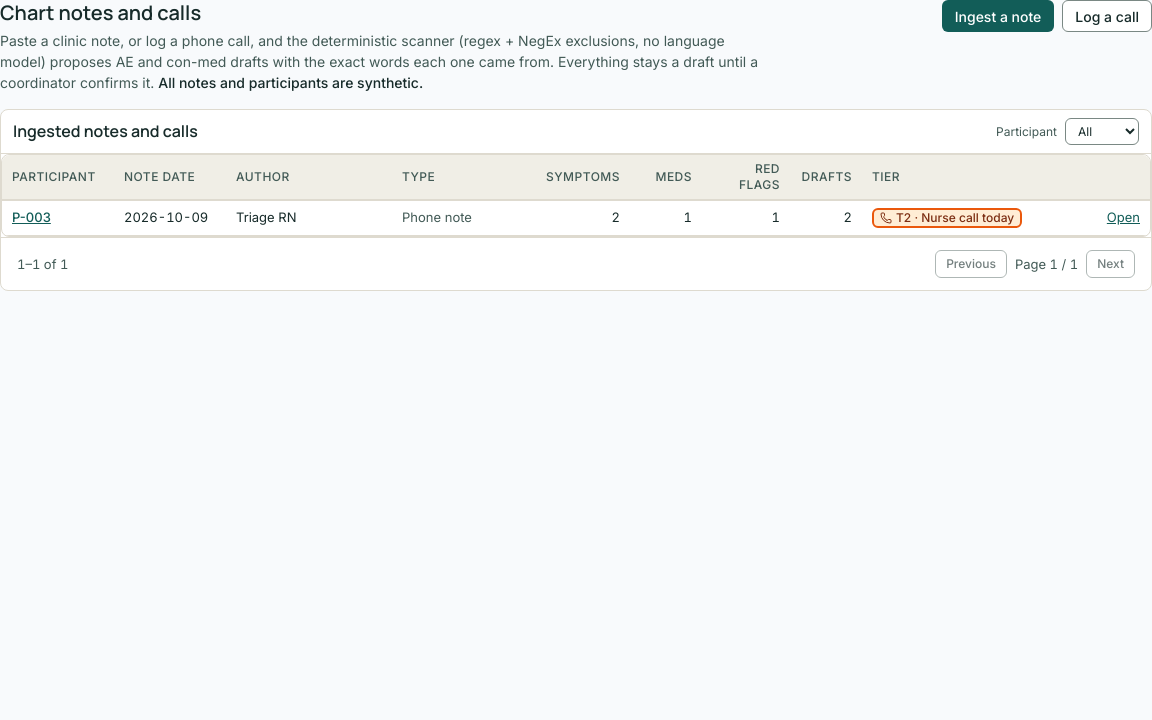
Test: Log a call › posts a phone_call note with caller, direction and the summary verbatim
Click the button "Log a call".
click(1107, 16)  # box [1062,0,1151,32]
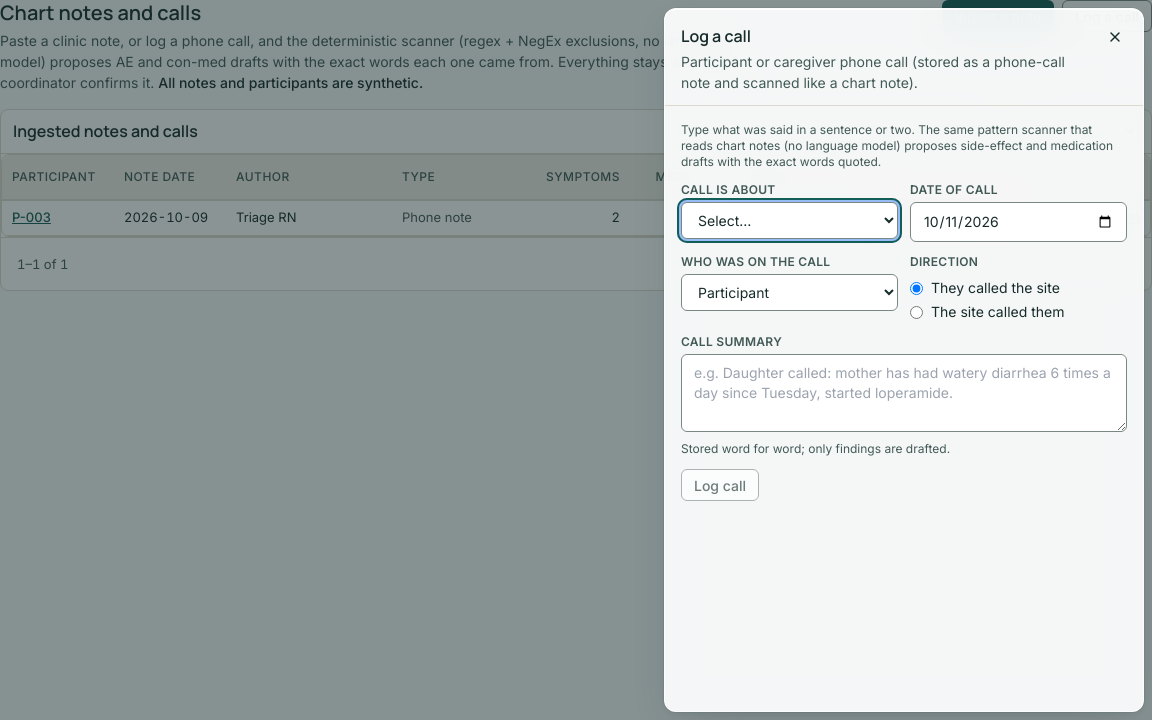
expect the button "Log call" is disabled: met, box [681,469,759,501]
Select "P-003" in the dropdown labelled "Call is about" at (790, 221), box [681,202,898,239]
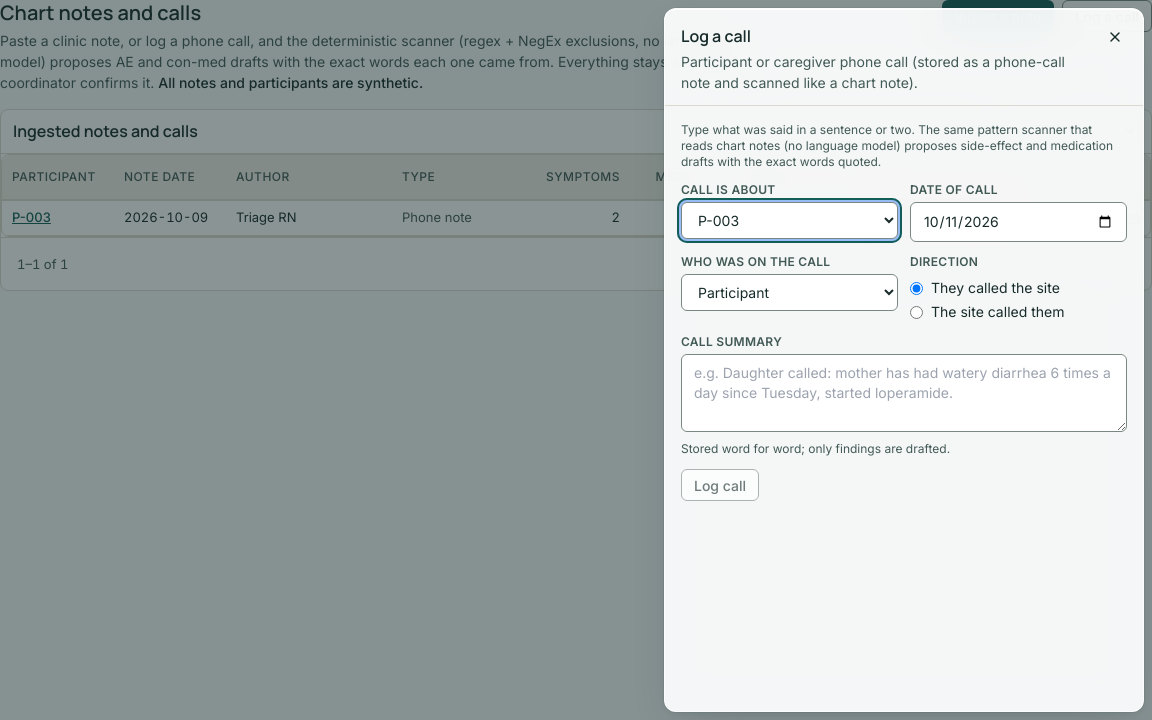
Select "Caregiver" in the dropdown labelled "Who was on the call" at (790, 293), box [681,274,898,311]
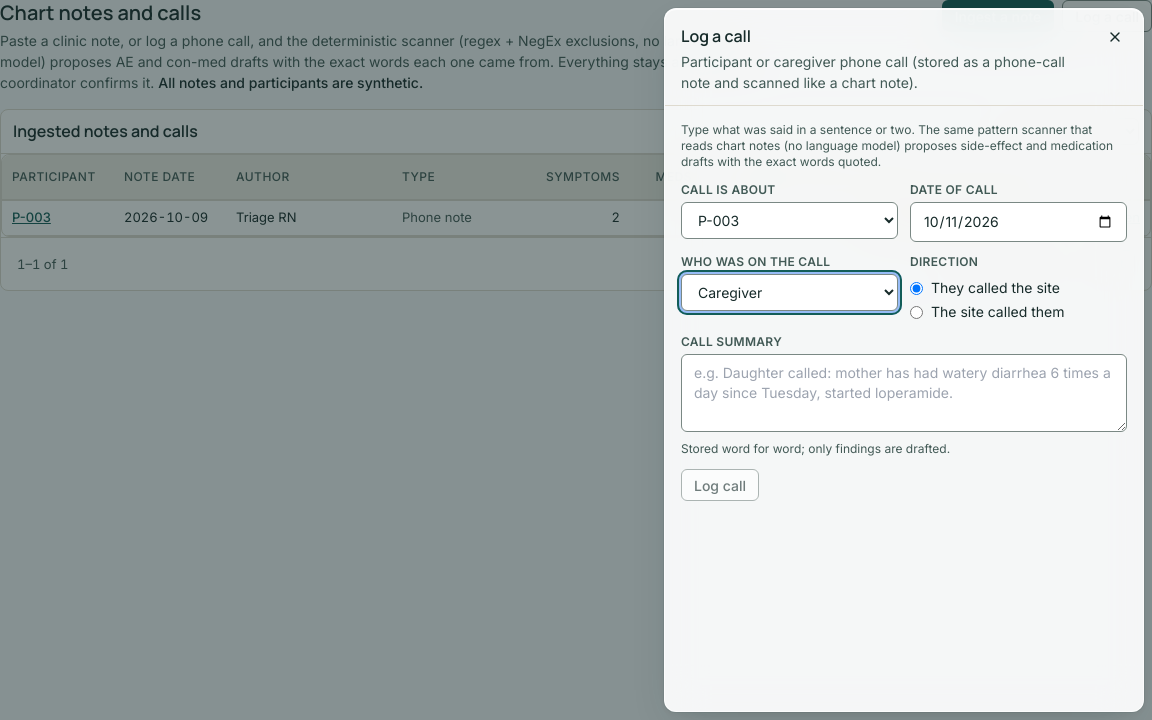
Click the radio button labelled "The site called them".
click(916, 312)  # box [910,306,923,319]
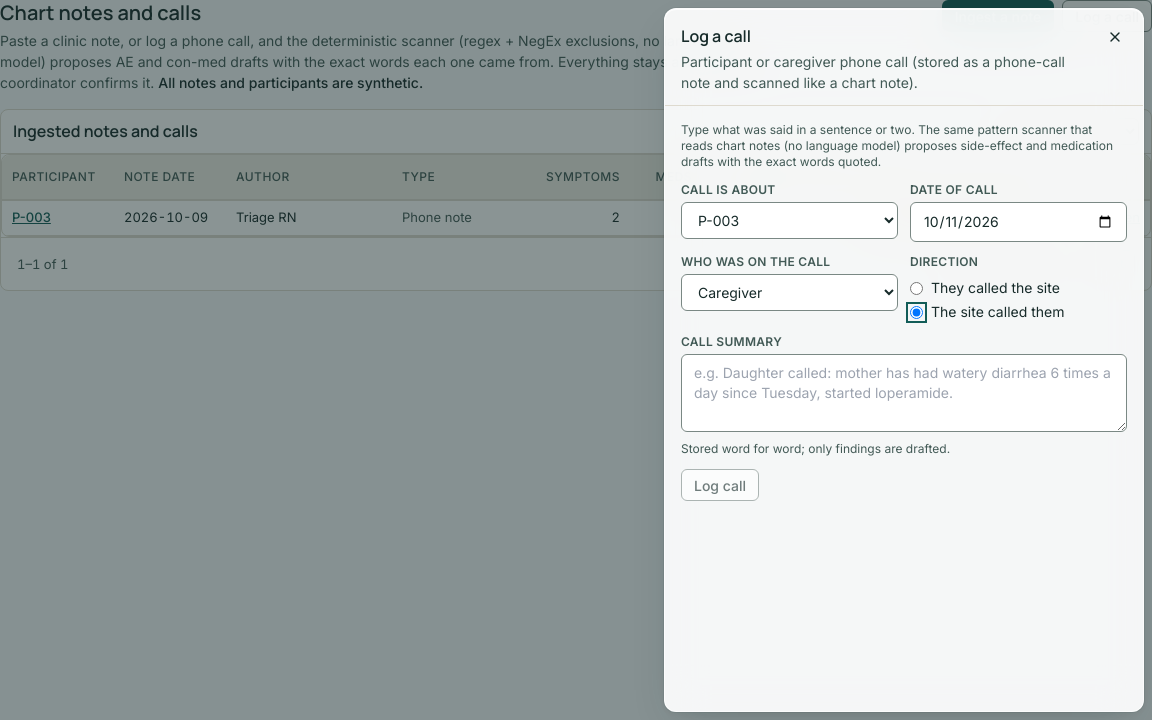
Type "Daughter says increasing SOB." into the text box labelled "Call summary".
click(904, 393); type("Daughter says increasing SOB.")  # box [681,354,1127,432]
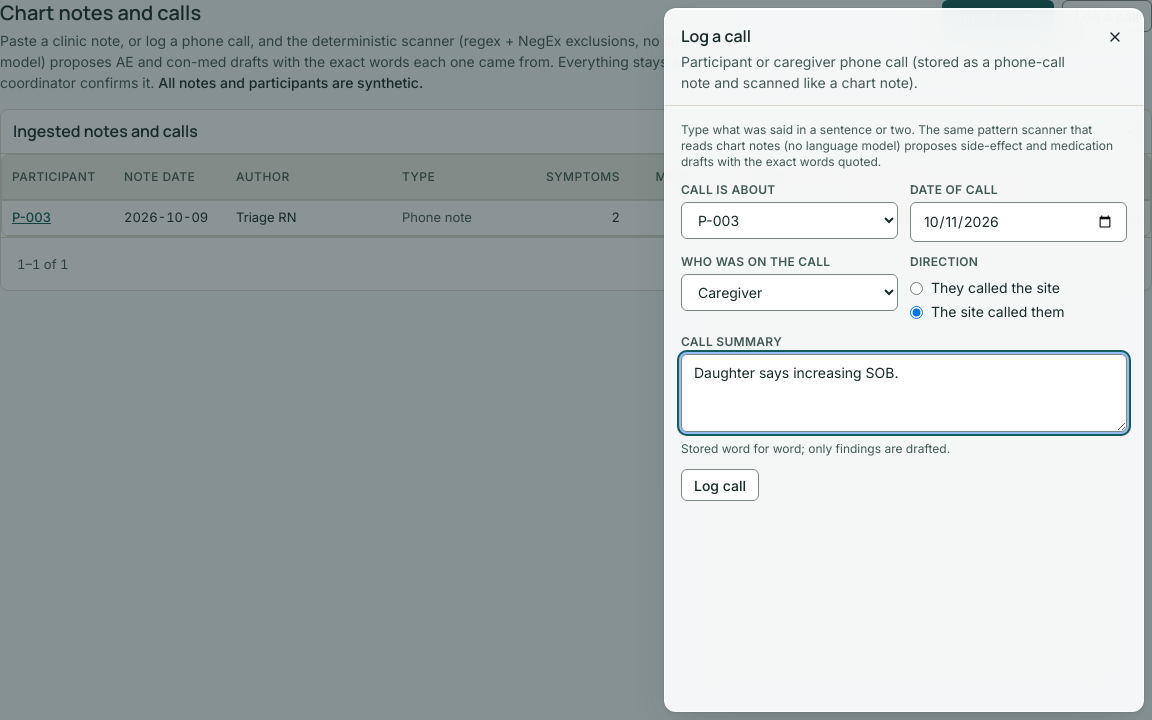
Click the button "Log call".
click(720, 485)  # box [681,469,759,501]
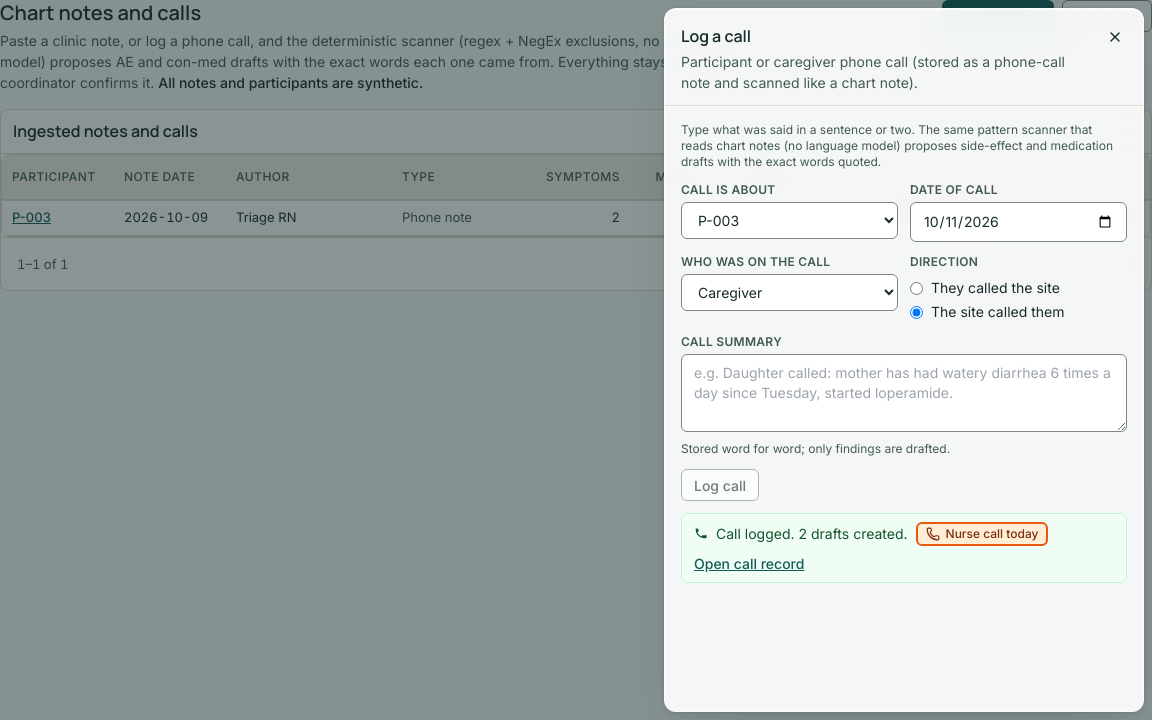
expect the message with test id "call-logged" shows "Call logged. 2 drafts created.": met, box [681,513,1127,583]
expect the text box labelled "Call summary" is empty: met, box [681,354,1127,432]
